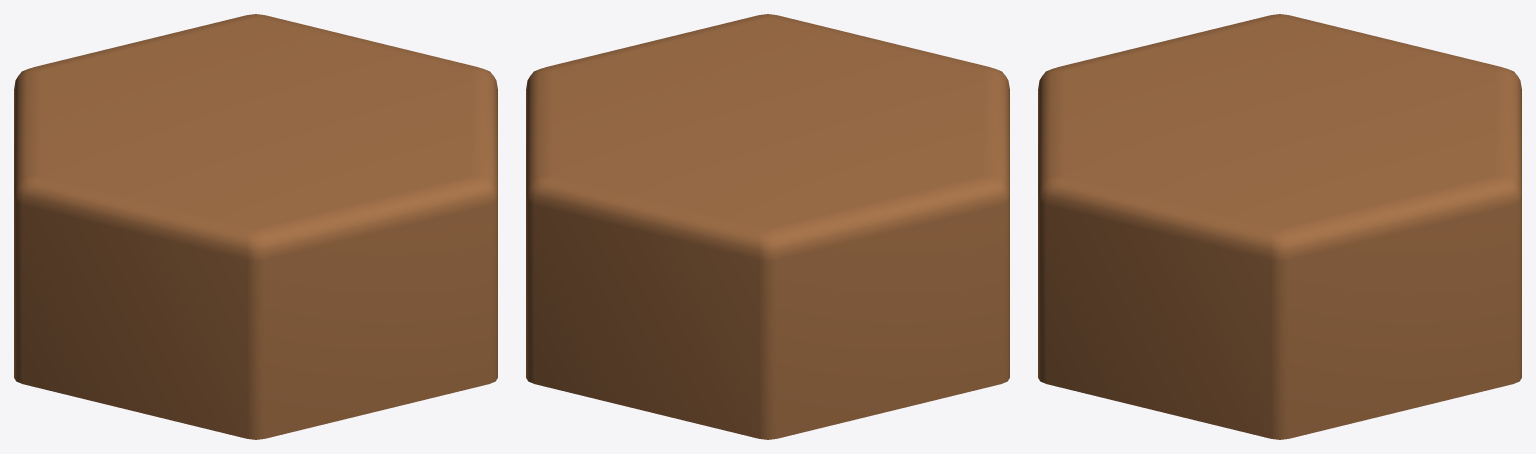
File: Tile_Sandy_02_Ground.fbx
3 views of the same model, side by side, from view 1: azimuth 30°, elevation 25°; view 2: azimuth 150°, elevation 25°; view 3: azimuth 270°, elevation 25° (orthographic).
Parts seen in each view (by area): view 1: Tile_Sandy_02_Ground; view 2: Tile_Sandy_02_Ground; view 3: Tile_Sandy_02_Ground.
Boxes of the visible parts, x1,y1,x2,y2 form: Tile_Sandy_02_Ground: (14,14,497,439); Tile_Sandy_02_Ground: (526,14,1009,439); Tile_Sandy_02_Ground: (1038,14,1521,439).
Bounding box in the file's own units: 9302 × 3698 × 8129.
